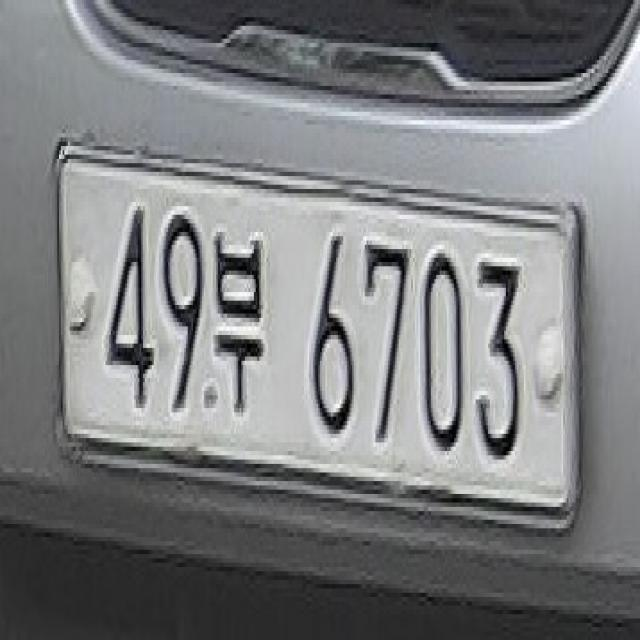0: (418, 238, 462, 468)
3: (471, 250, 530, 470)
4: (100, 192, 156, 418)
6: (310, 228, 358, 446)
7: (362, 229, 413, 446)
9: (157, 212, 203, 428)
bu: (210, 211, 266, 422)
license_plate: (52, 129, 591, 546)
